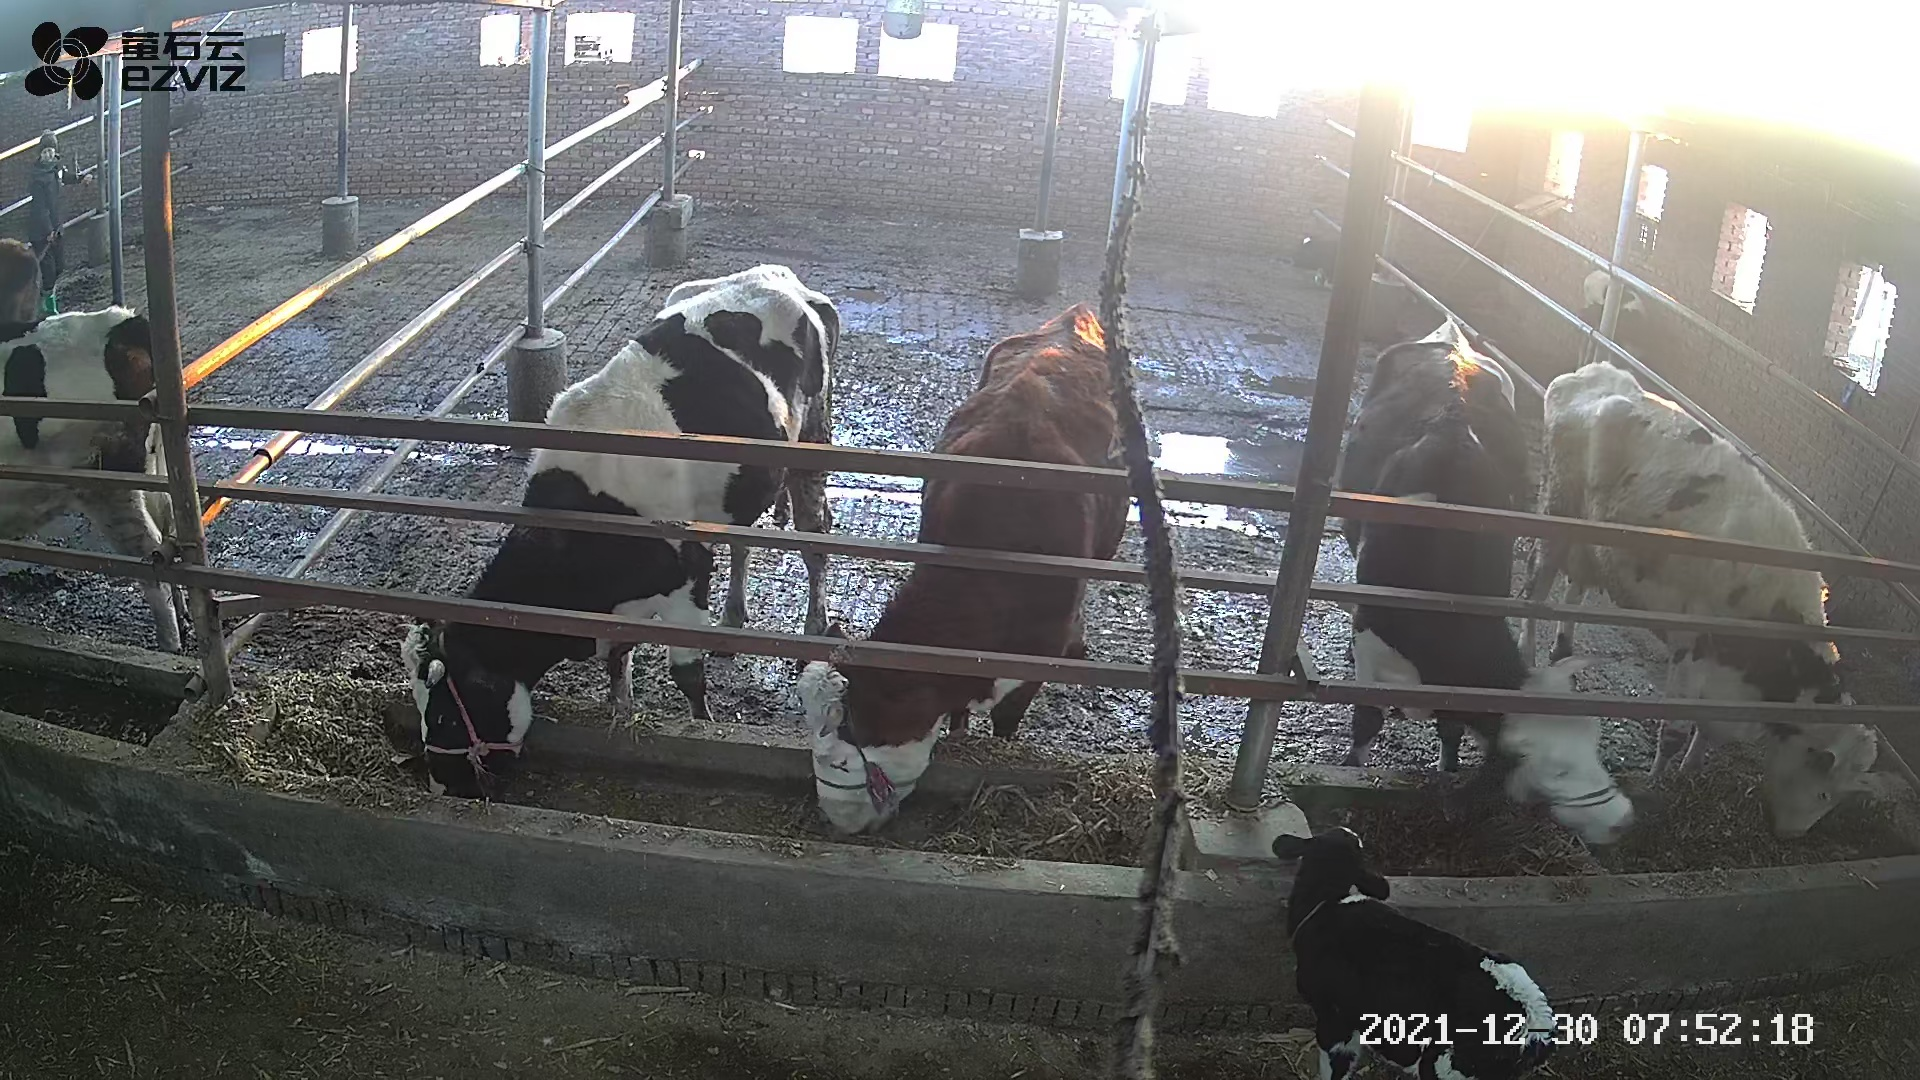cow: (382, 262, 841, 798), (794, 301, 1129, 837), (1518, 360, 1876, 843), (1337, 316, 1636, 848)
